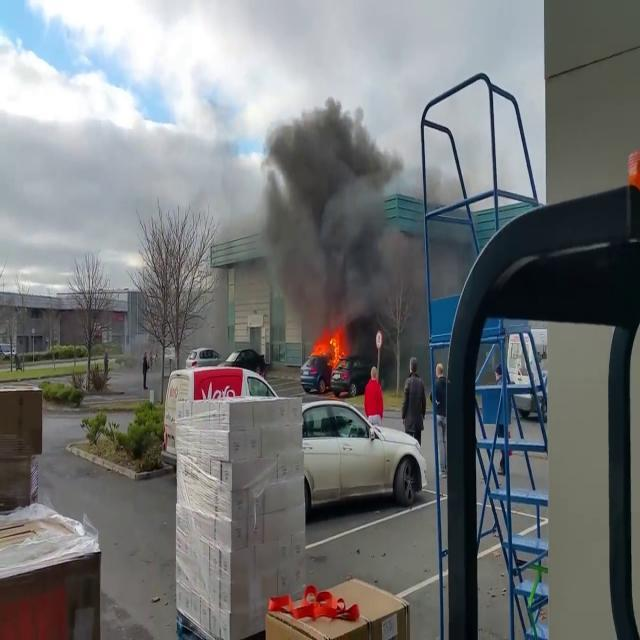Fire: (310, 323, 350, 374)
Smoke: (253, 81, 414, 348)
